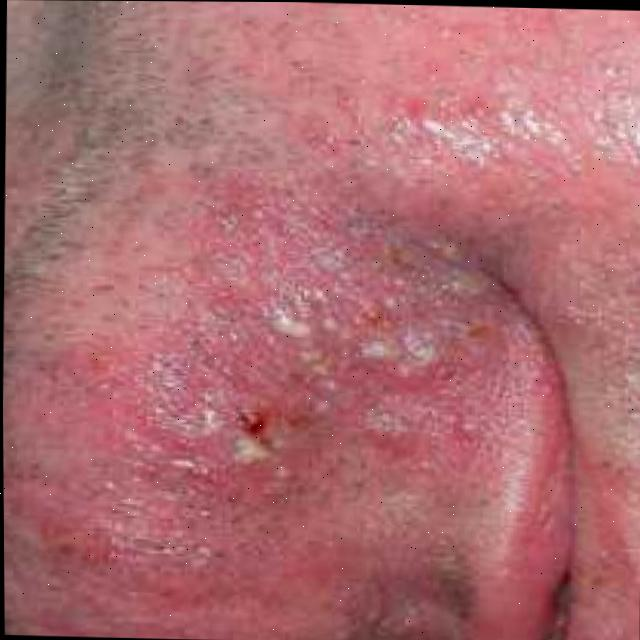Rosacea: (144, 222, 454, 523)
